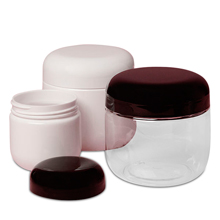Rec_Plastic: (104, 66, 214, 188), (5, 88, 112, 199), (37, 38, 143, 149)
